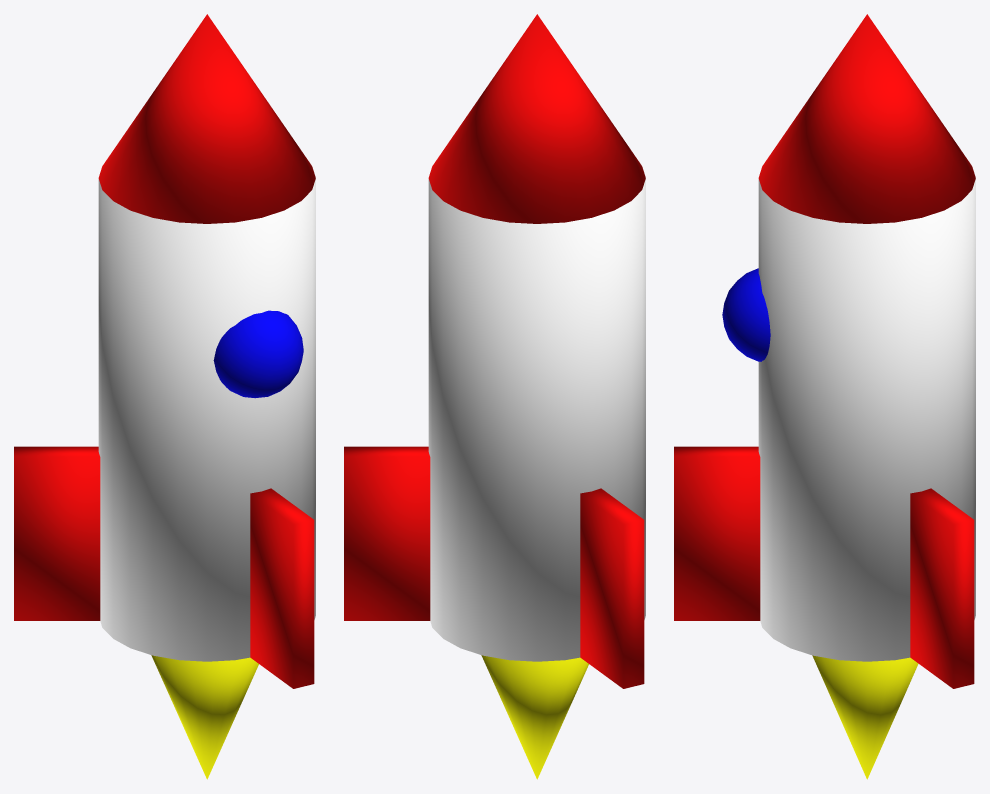
Rendered from rocket.glb.
The picture shows the model from 3 angles, left to right: view 1: azimuth 30°, elevation 25°; view 2: azimuth 150°, elevation 25°; view 3: azimuth 270°, elevation 25°; orthographic projection.
Parts seen in each view (by area): view 1: geometry_0, geometry_1, geometry_5, geometry_3, geometry_6, geometry_2; view 2: geometry_0, geometry_1, geometry_4, geometry_5, geometry_6; view 3: geometry_0, geometry_1, geometry_3, geometry_4, geometry_6, geometry_2.
Part boxes in pixels (x1=…): geometry_0: x1=98, y1=178, x2=315, y2=661; geometry_1: x1=98, y1=14, x2=315, y2=223; geometry_5: x1=14, y1=446, x2=100, y2=620; geometry_3: x1=250, y1=488, x2=314, y2=688; geometry_6: x1=151, y1=655, x2=258, y2=779; geometry_2: x1=213, y1=310, x2=303, y2=398; geometry_0: x1=428, y1=178, x2=645, y2=661; geometry_1: x1=428, y1=14, x2=645, y2=223; geometry_4: x1=344, y1=446, x2=430, y2=620; geometry_5: x1=580, y1=488, x2=644, y2=688; geometry_6: x1=481, y1=655, x2=588, y2=779; geometry_0: x1=758, y1=178, x2=975, y2=661; geometry_1: x1=758, y1=14, x2=975, y2=223; geometry_3: x1=674, y1=446, x2=760, y2=620; geometry_4: x1=910, y1=488, x2=974, y2=688; geometry_6: x1=812, y1=655, x2=918, y2=779; geometry_2: x1=722, y1=268, x2=770, y2=361.
Size of the model in its own units: 0.5743 by 1.4 by 0.5.
